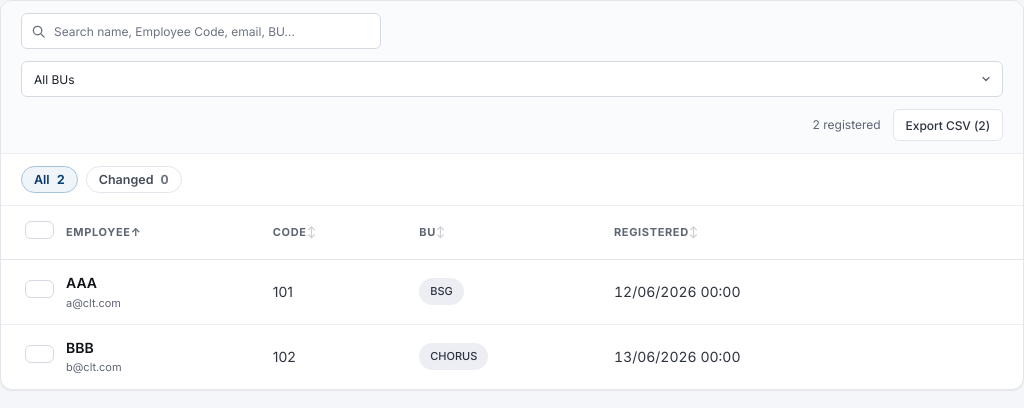
Scenario: Registrations bulk-select › select-all selects every row; Clear selection collapses the bar
Expected: the text "AAA" is shown, x1=66 y1=274 x2=97 y2=291
Click the checkbox named "Select all registrations" at {"x": 40, "y": 230}, box x1=25 y1=221 x2=54 y2=239
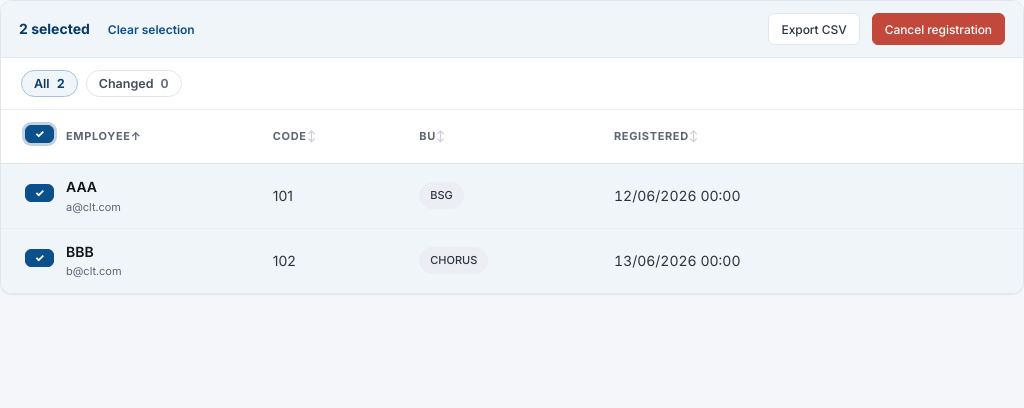
Result: the text "2 selected" is shown at x1=19 y1=18 x2=90 y2=40
Click the button "Clear selection" at {"x": 151, "y": 29}, box x1=102 y1=20 x2=201 y2=38
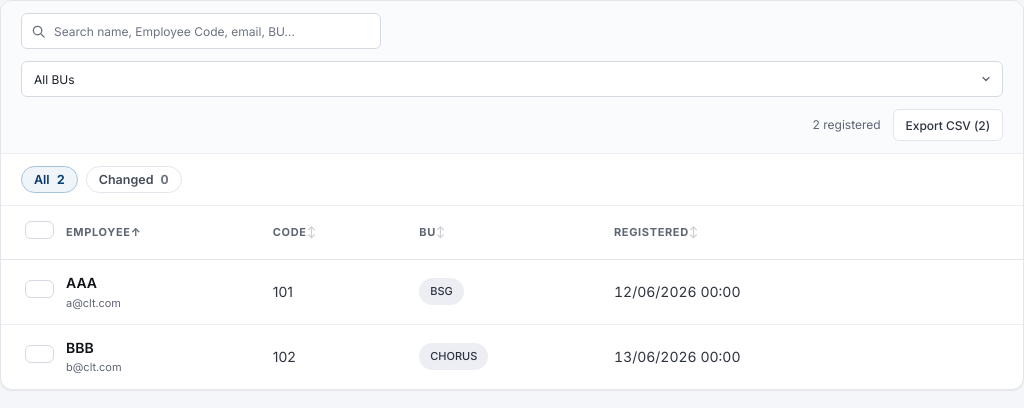
Result: the text "selected" is gone
Result: the button "Export CSV (2)" is shown at x1=893 y1=109 x2=1003 y2=141
